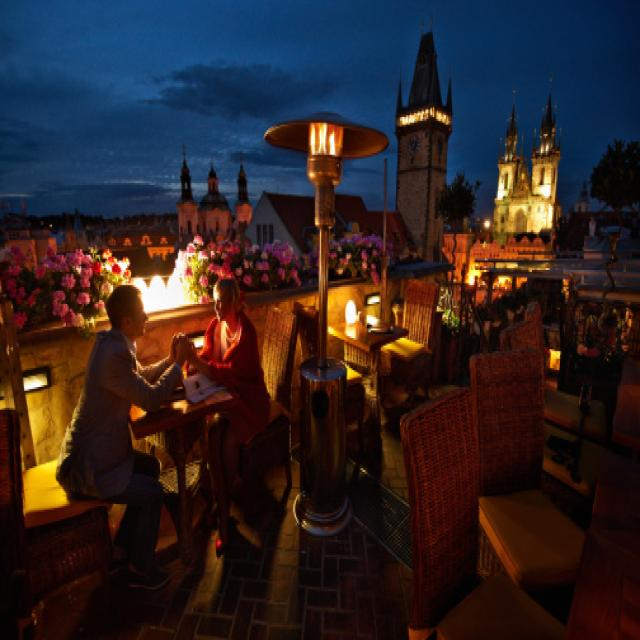People: (68, 269, 171, 593), (183, 270, 262, 567)
Table: (127, 352, 255, 577), (566, 453, 640, 640), (319, 297, 396, 466)
chair: (388, 367, 568, 640), (450, 332, 589, 630), (0, 377, 118, 640), (509, 291, 609, 495), (240, 302, 314, 507), (387, 270, 456, 444)
